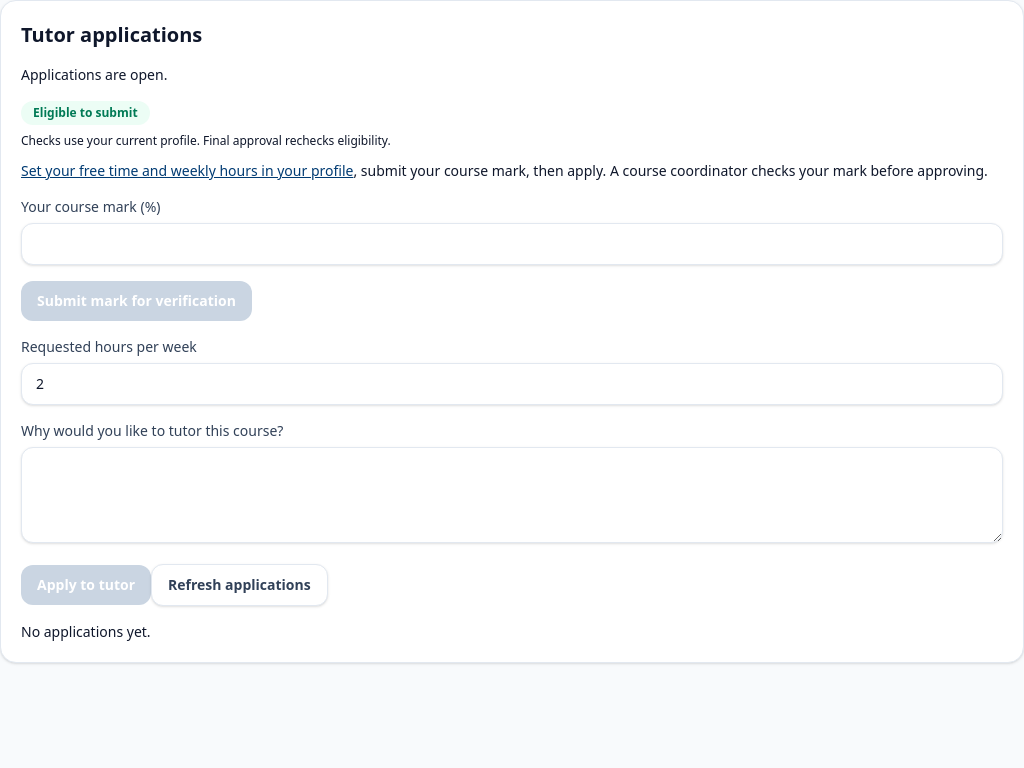
Test: Course application workflow › shows backend correction guidance when a mark is verified after the form was loaded
In the number field labelled "Your course mark (%)": x=512, y=244 [21,223,1003,265], type "90"
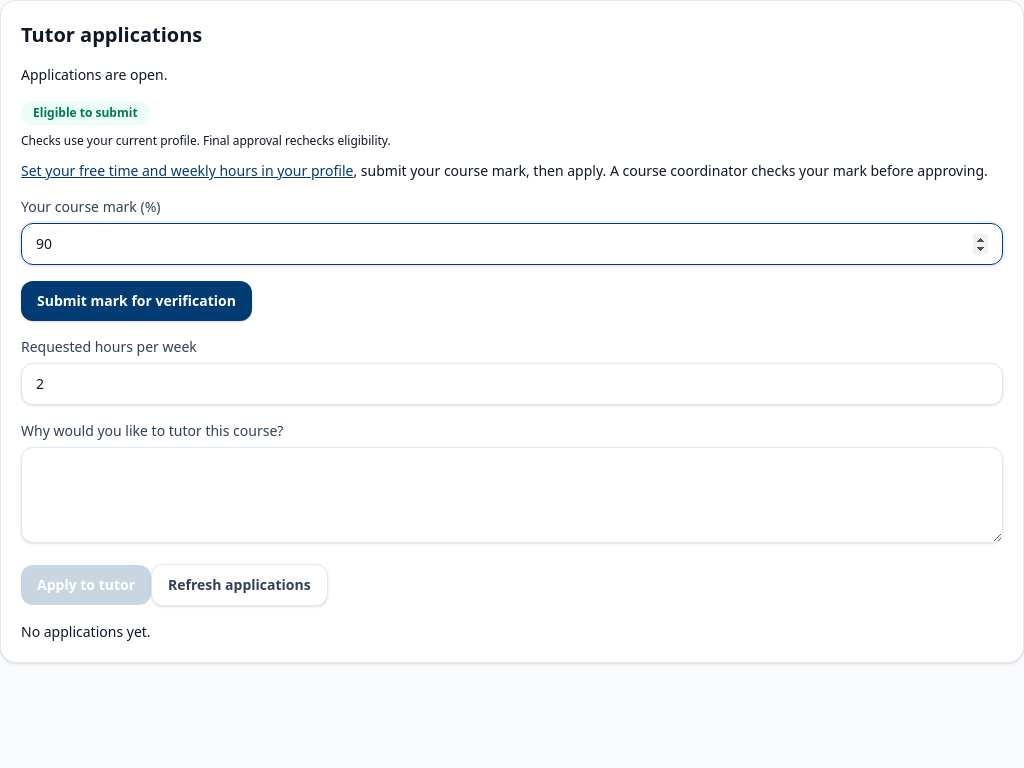
Click the button "Submit mark for verification": x=136, y=301 [21,281,252,321]
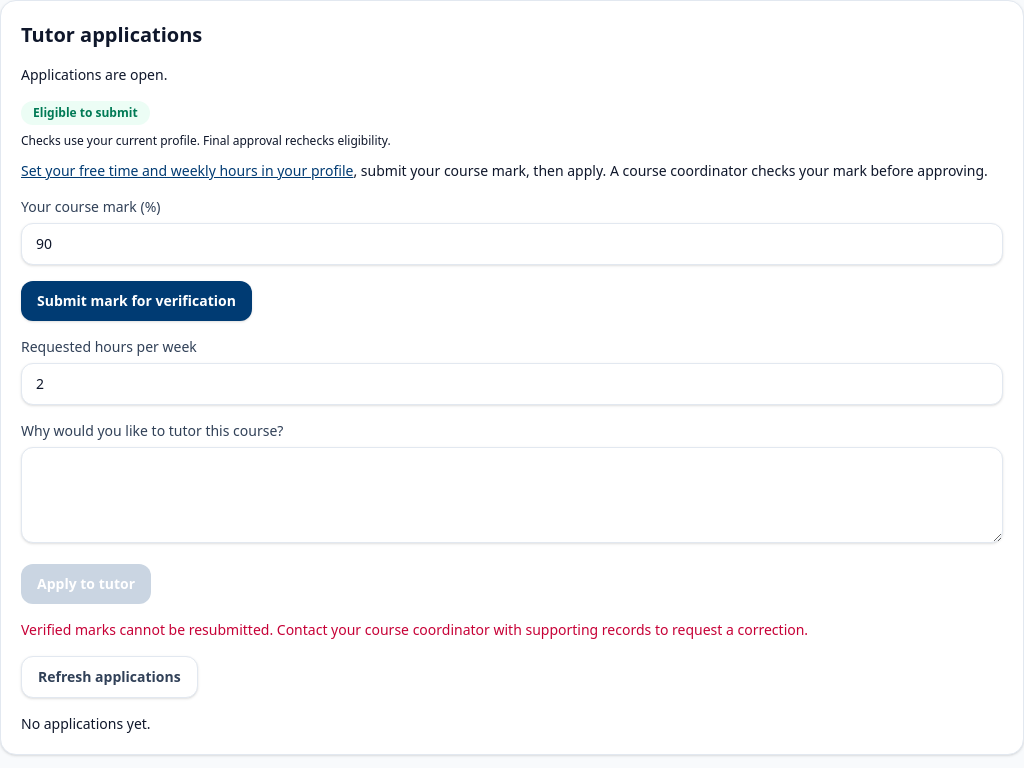
Check: the message shows "Contact your course coordinator", box [21,620,808,639]
